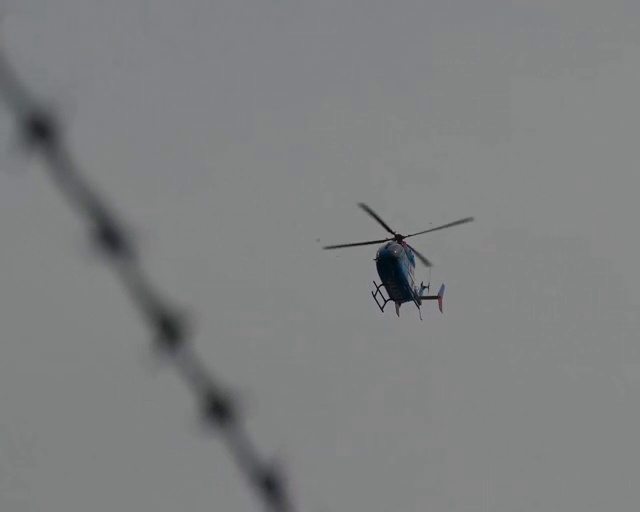HELICOPTER: (318, 200, 475, 321)
